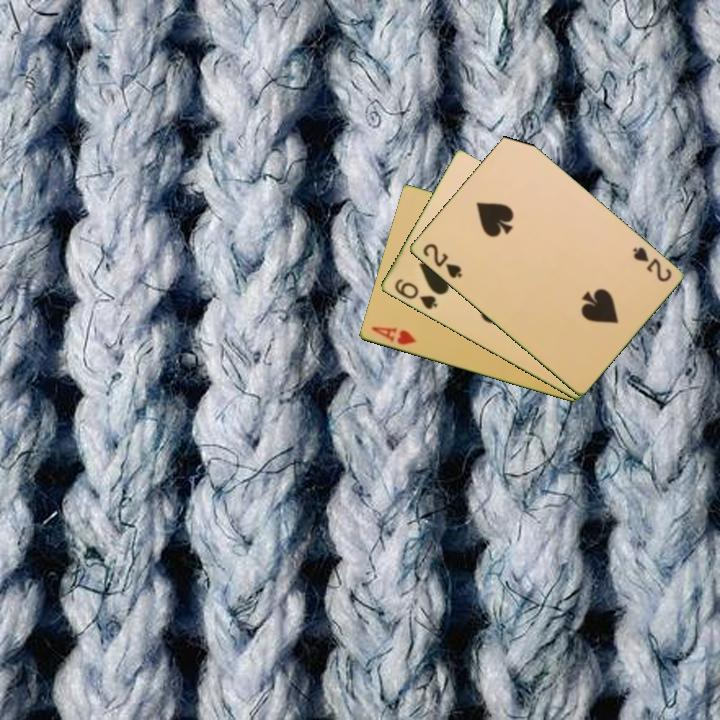2s: (419, 240, 465, 282), (628, 243, 674, 285)
6s: (391, 275, 440, 313)
Ah: (367, 323, 419, 348)
